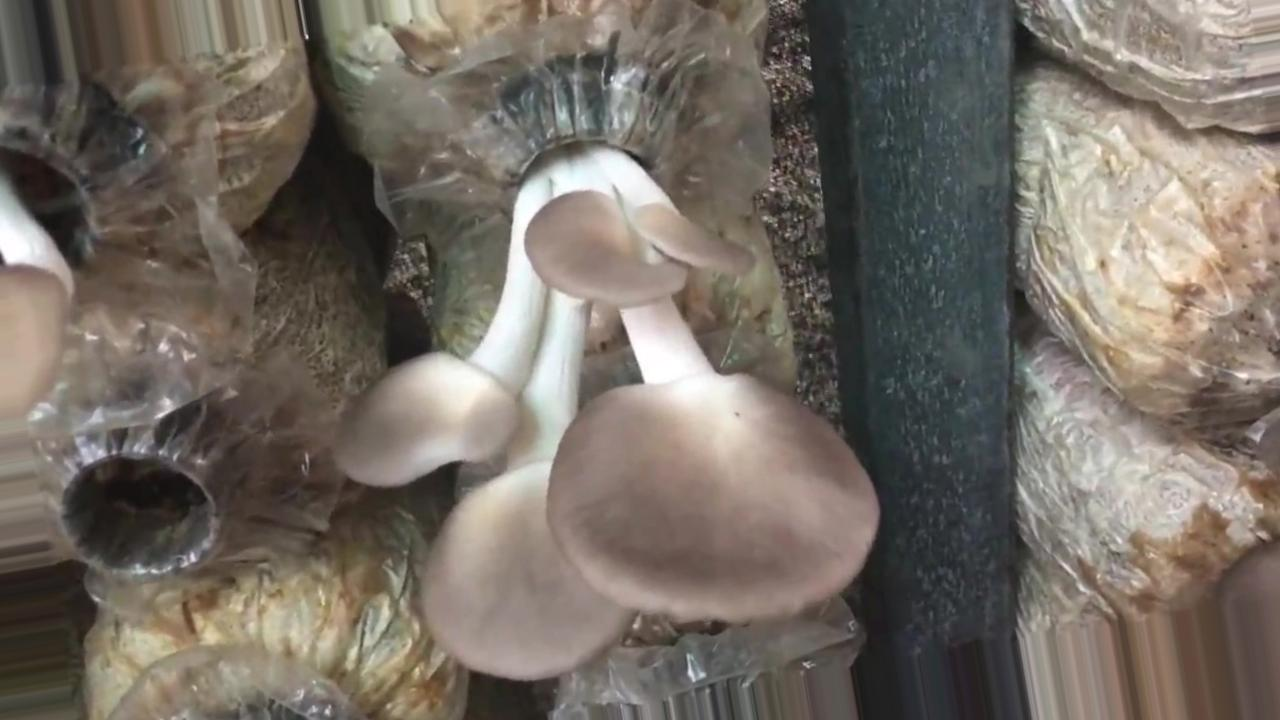nam: (339, 80, 877, 680), (1, 89, 110, 420)
